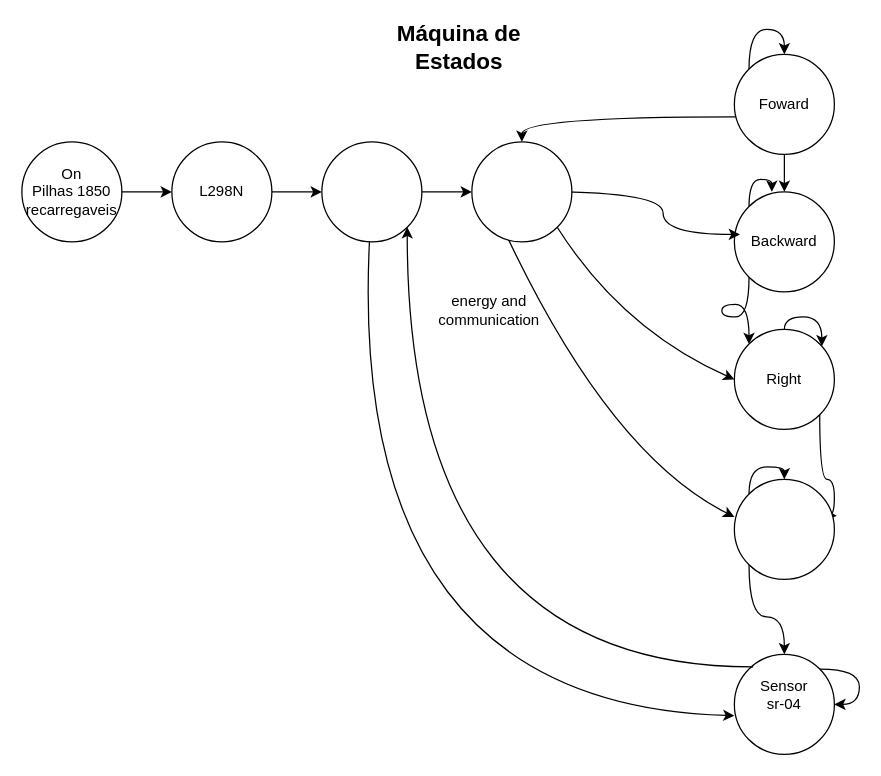
This 881x776 diagram has some shape labels left out. The centre of each missing label's shape, as x and y in pixels:
Arduino UNO: point (371, 191)
HC-05: point (521, 191)
Left: point (783, 528)
